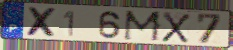1: (62, 10, 75, 37)
6: (98, 10, 122, 40)
7: (195, 12, 224, 45)
M: (122, 10, 164, 43)
X: (25, 6, 59, 39), (160, 11, 192, 44)
